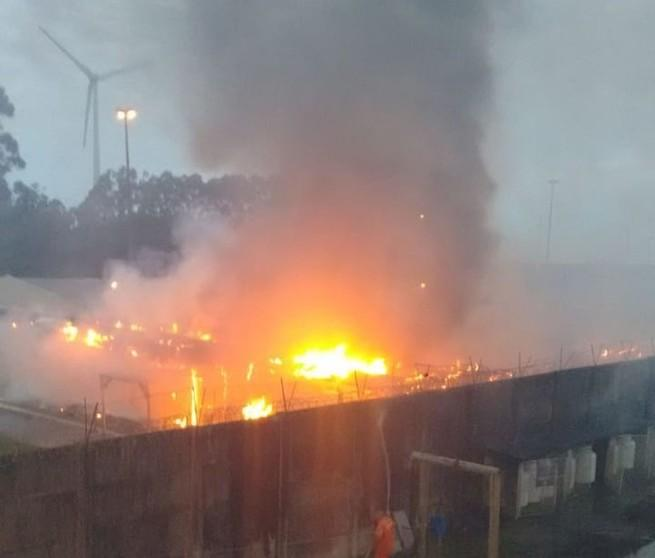fire: (287, 343, 403, 379), (173, 373, 214, 430), (223, 396, 294, 419)
smoke: (277, 40, 471, 303)
